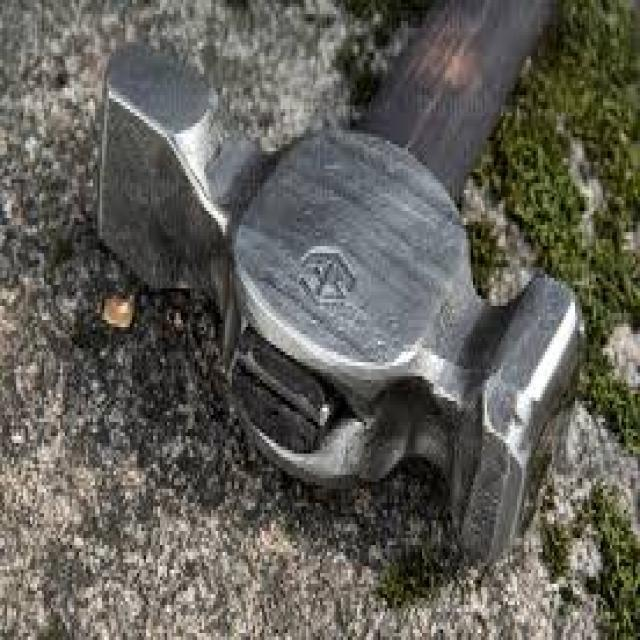hammer: (82, 0, 609, 566)
